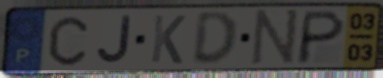C: (47, 15, 90, 68)
D: (189, 10, 240, 68)
J: (94, 14, 133, 67)
K: (149, 13, 189, 66)
N: (248, 7, 302, 68)
P: (293, 8, 348, 66)
